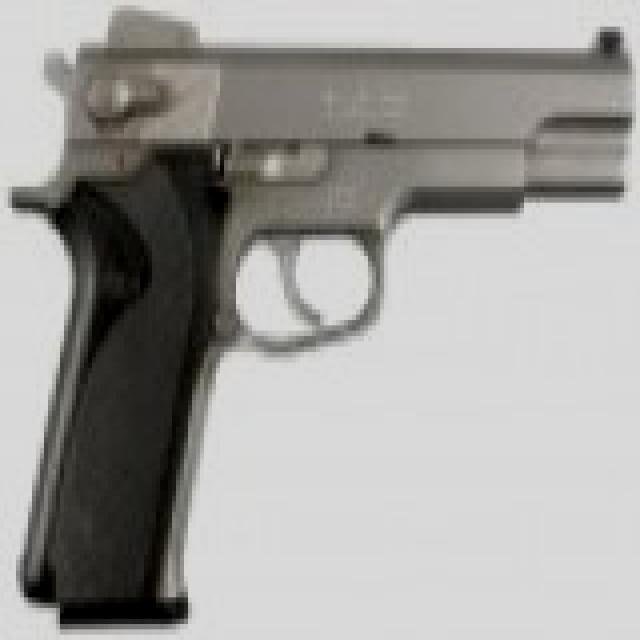pistol: (20, 11, 624, 629)
